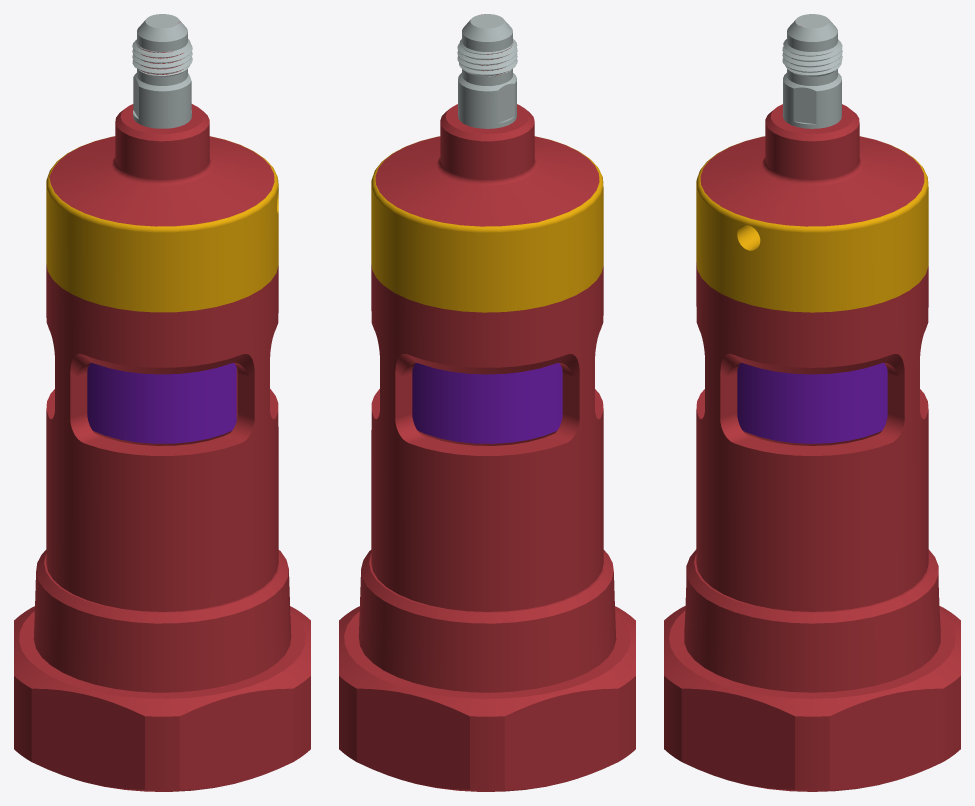
Rendered from pla150-m-sv.glb.
3 renders of one model, left to right at view 1: azimuth 30°, elevation 25°; view 2: azimuth 150°, elevation 25°; view 3: azimuth 270°, elevation 25°, orthographic.
Parts seen in each view (by area): view 1: PLA1000-M SV Defeature; view 2: PLA1000-M SV Defeature; view 3: PLA1000-M SV Defeature.
Part boxes in pixels (bbox=[...]): PLA1000-M SV Defeature: bbox=[14, 14, 310, 791]; PLA1000-M SV Defeature: bbox=[339, 14, 635, 791]; PLA1000-M SV Defeature: bbox=[664, 14, 960, 791].
Bounding box in the file's own units: 0.0762 × 0.1841 × 0.0697.
